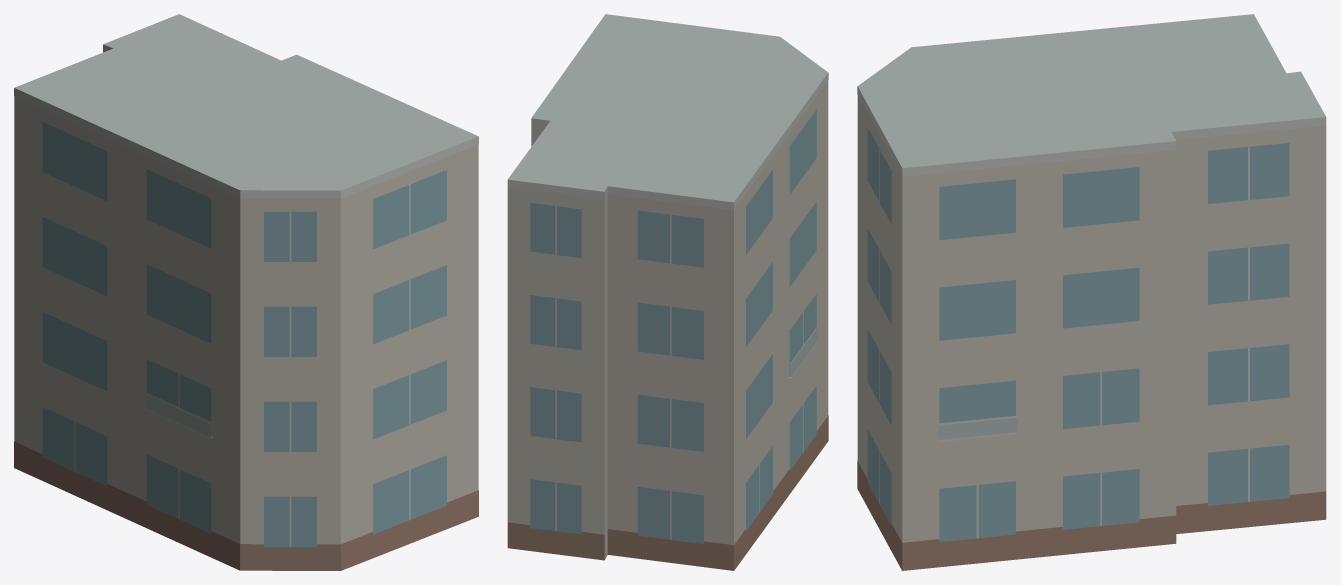
The model's file is survey-upis-32526365.glb.
3 renders of one model, left to right at view 1: azimuth 30°, elevation 25°; view 2: azimuth 150°, elevation 25°; view 3: azimuth 270°, elevation 25°, orthographic. The views are drawn at different scales.
Visible parts, largest first — view 1: survey-upis-32526365.tmp; view 2: survey-upis-32526365.tmp; view 3: survey-upis-32526365.tmp.
Boxes of the visible parts, x1,y1,x2,y2 form: survey-upis-32526365.tmp: [14, 14, 478, 570]; survey-upis-32526365.tmp: [507, 14, 828, 570]; survey-upis-32526365.tmp: [857, 14, 1326, 570].
Bounding box in the file's own units: 9.38 × 11.4 × 12.04.
